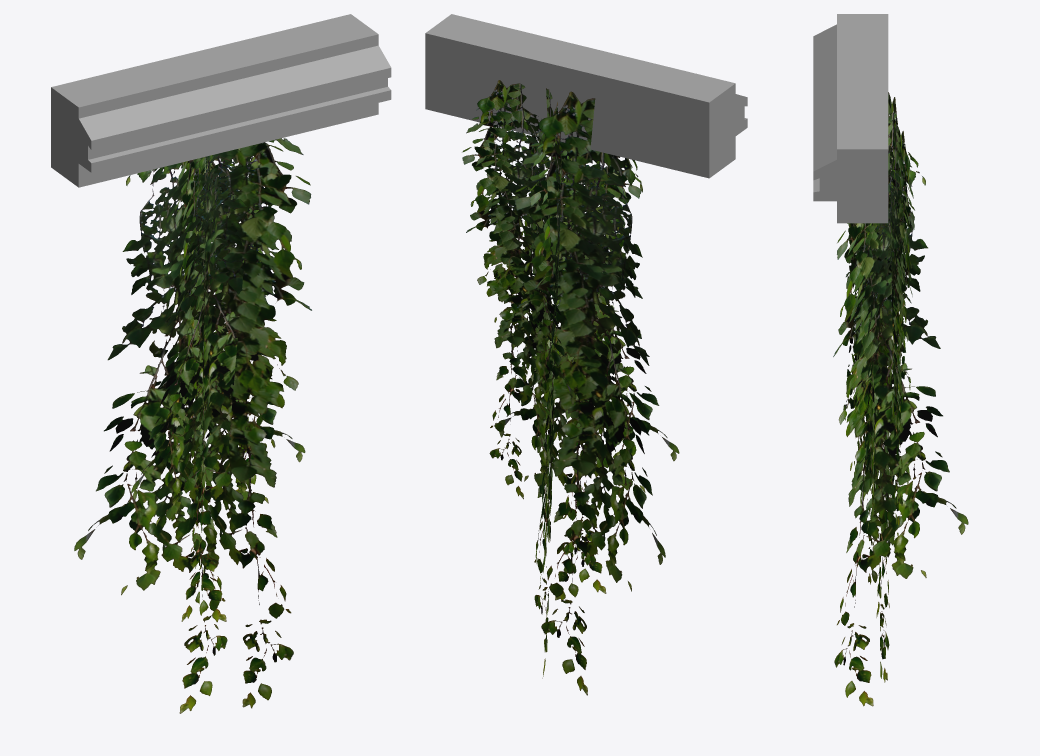
File: plant_fall_M.fbx
3 renders of one model, left to right at view 1: azimuth 30°, elevation 25°; view 2: azimuth 150°, elevation 25°; view 3: azimuth 270°, elevation 25°, orthographic. The views are drawn at different scales.
Visible parts, largest first — view 1: medium, Emetteur; view 2: medium, Emetteur; view 3: medium, Emetteur.
Part boxes in pixels (x1,y1,x2,y2): medium: (74,138,311,713); Emetteur: (51,14,391,187); medium: (462,80,679,695); Emetteur: (425,14,747,178); medium: (833,92,968,706); Emetteur: (813,14,888,223).
Bounding box in the file's own units: 142 × 285 × 102.
